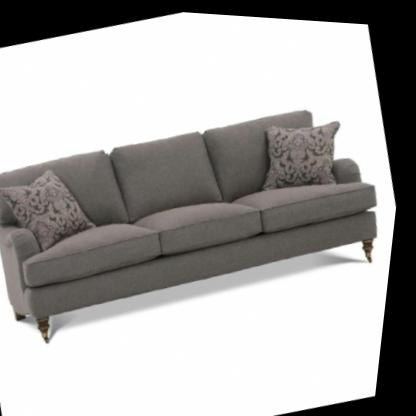Sofa: (0, 72, 409, 367)
